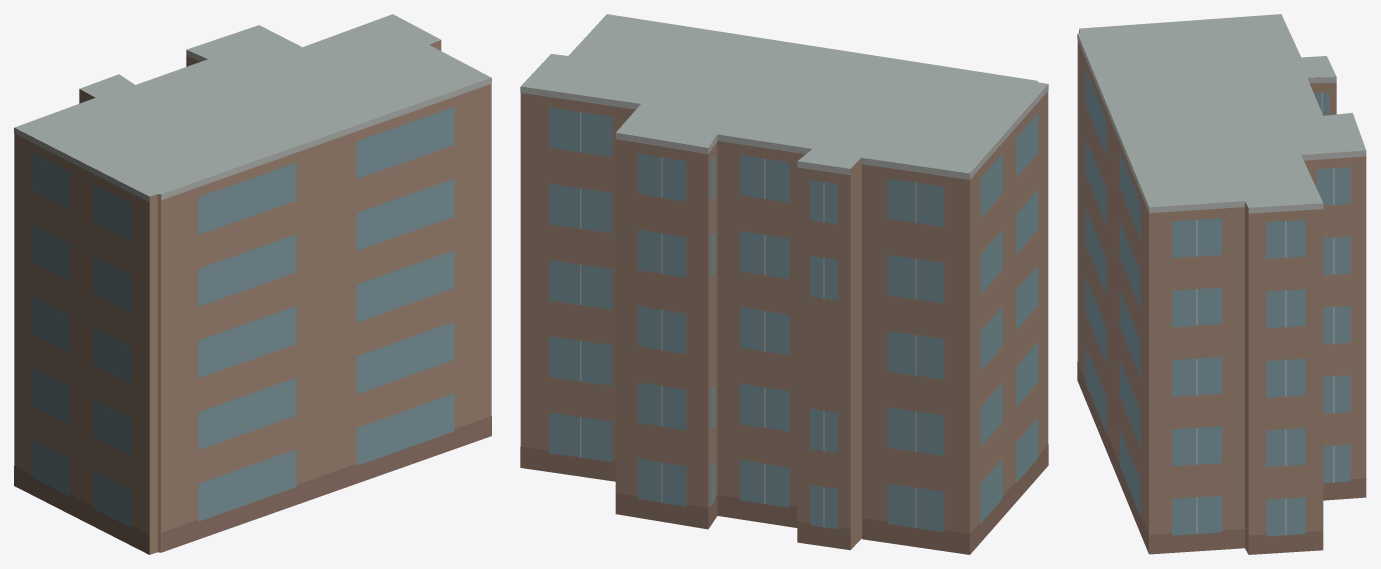
The model's file is survey-upis-32692404.glb.
The picture shows the model from 3 angles, left to right: view 1: azimuth 30°, elevation 25°; view 2: azimuth 150°, elevation 25°; view 3: azimuth 270°, elevation 25°; orthographic projection. The views are drawn at different scales.
Visible parts, largest first — view 1: survey-upis-32692404.tmp; view 2: survey-upis-32692404.tmp; view 3: survey-upis-32692404.tmp.
Boxes of the visible parts, x1,y1,x2,y2 form: survey-upis-32692404.tmp: [14, 14, 491, 554]; survey-upis-32692404.tmp: [520, 14, 1048, 554]; survey-upis-32692404.tmp: [1077, 14, 1366, 554].
Size of the model in its own units: 17.51 by 14.6 by 11.02.
